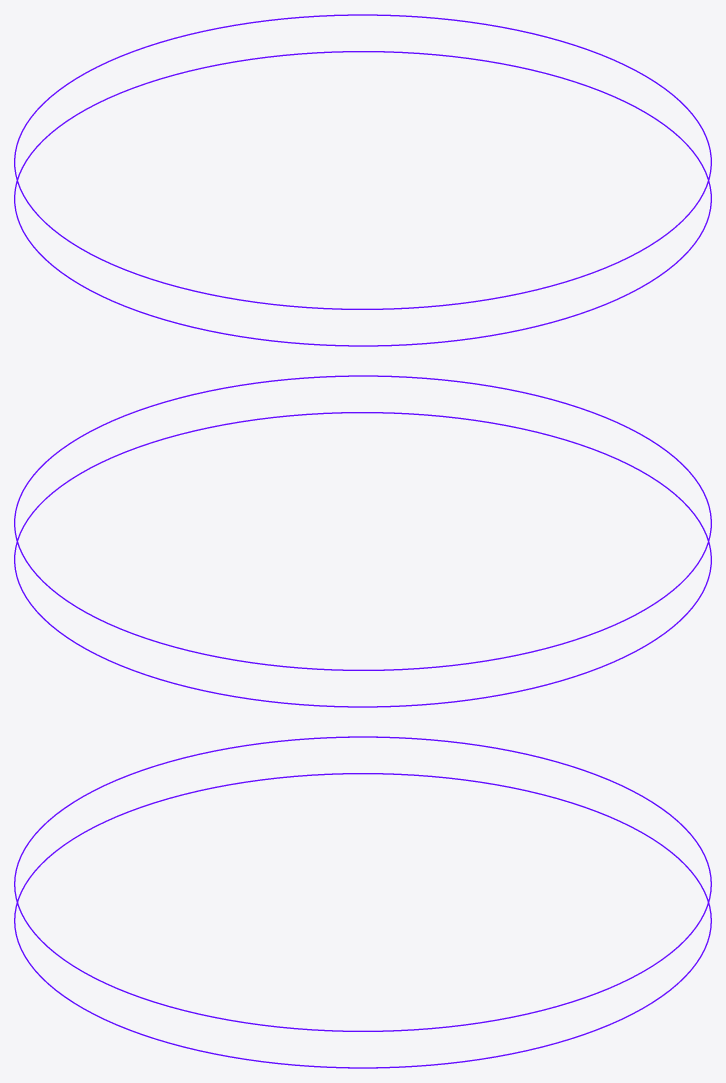
Rendered from particle path.fbx.
3 views of the same model, one above another, from view 1: azimuth 30°, elevation 25°; view 2: azimuth 150°, elevation 25°; view 3: azimuth 270°, elevation 25° (orthographic).
Parts seen in each view (by area): view 1: particle path; view 2: particle path; view 3: particle path.
Part boxes in pixels (x1,y1,x2,y2): particle path: (14,14,711,346); particle path: (14,375,711,707); particle path: (14,736,711,1068).
Bounding box in the file's own units: 1744 × 104 × 1744.
